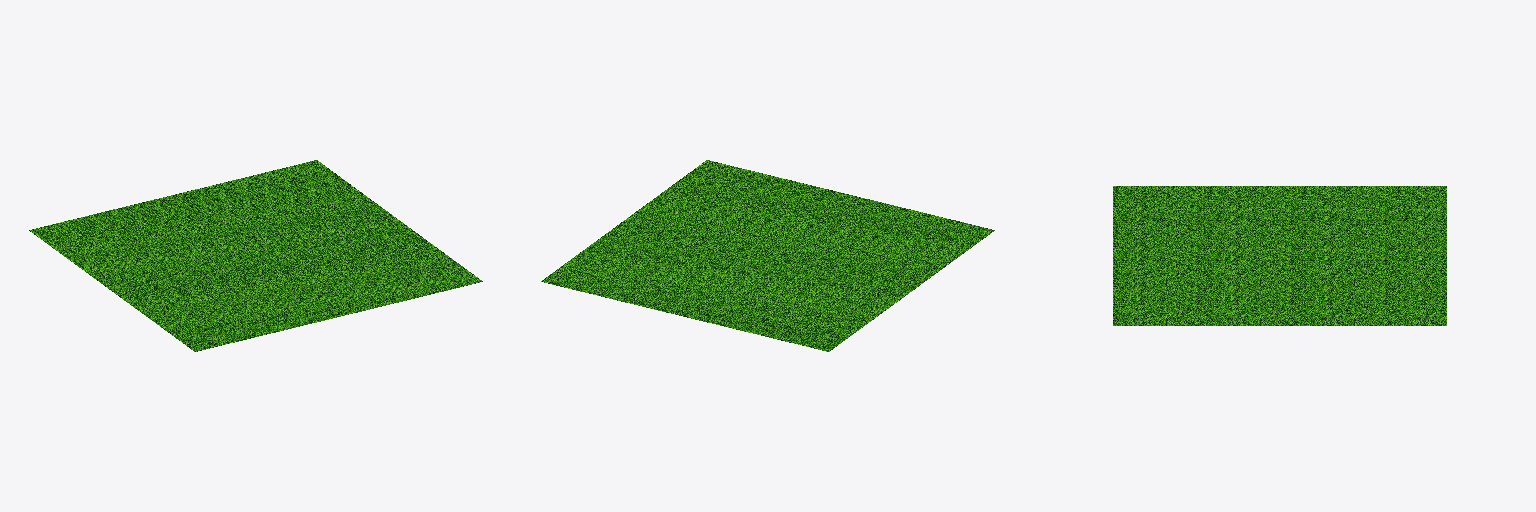
3 renders of one model, left to right at view 1: azimuth 30°, elevation 25°; view 2: azimuth 150°, elevation 25°; view 3: azimuth 270°, elevation 25°, orthographic.
Visible parts, largest first — view 1: Plane; view 2: Plane; view 3: Plane.
Boxes of the visible parts, box(x1,y1,x2,y2) form: Plane: box(29, 160, 482, 351); Plane: box(541, 160, 994, 351); Plane: box(1113, 186, 1446, 325).
Size of the model in its own units: 438 by 0 by 438.
Materials: 1 (1 with a texture image).